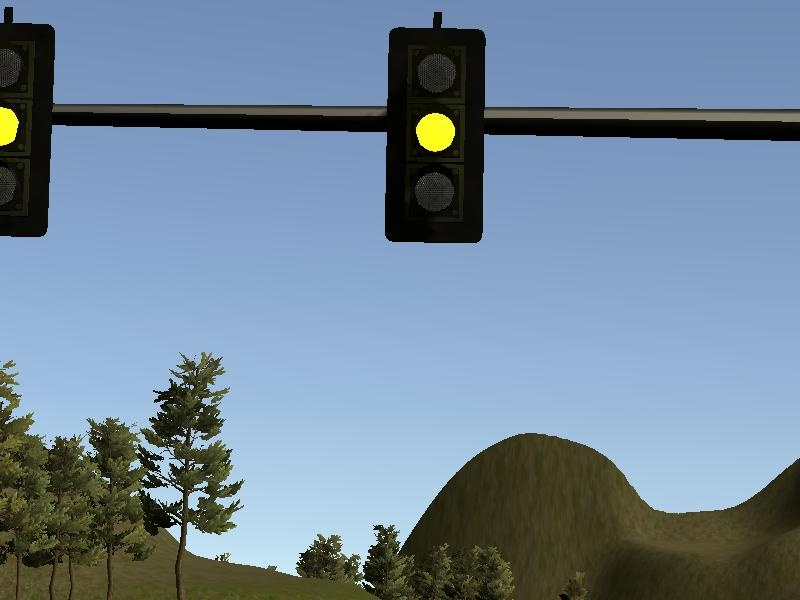Yellow: (383, 26, 485, 244), (2, 10, 51, 243)
